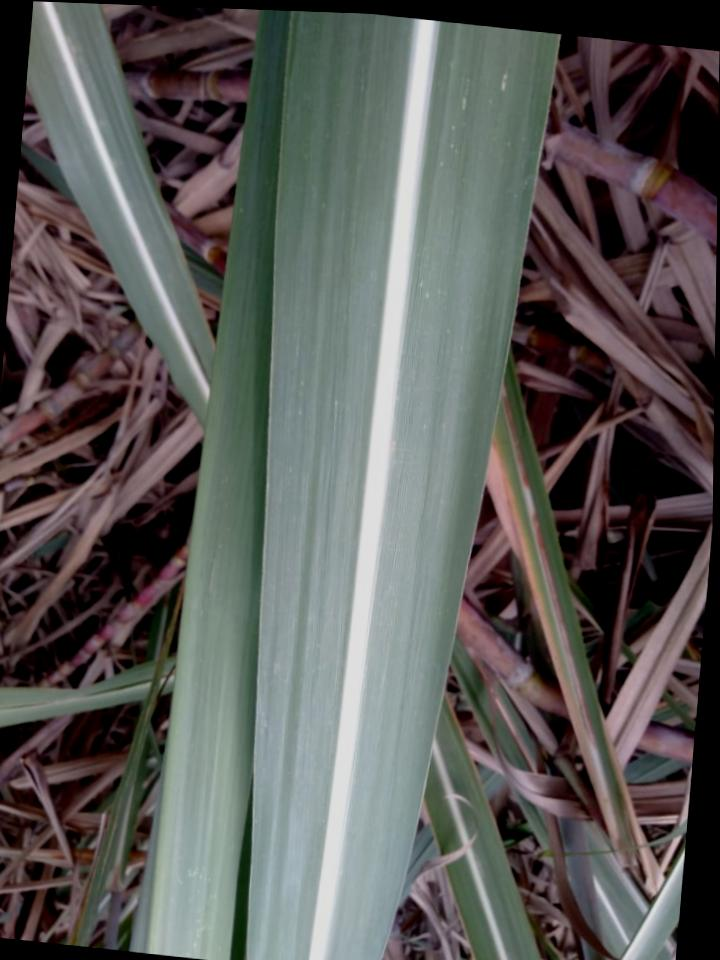Healthy: (247, 11, 558, 960), (130, 10, 289, 960)
RedRot: (531, 507, 595, 747), (501, 393, 529, 489)
Yellow: (492, 434, 606, 821)
